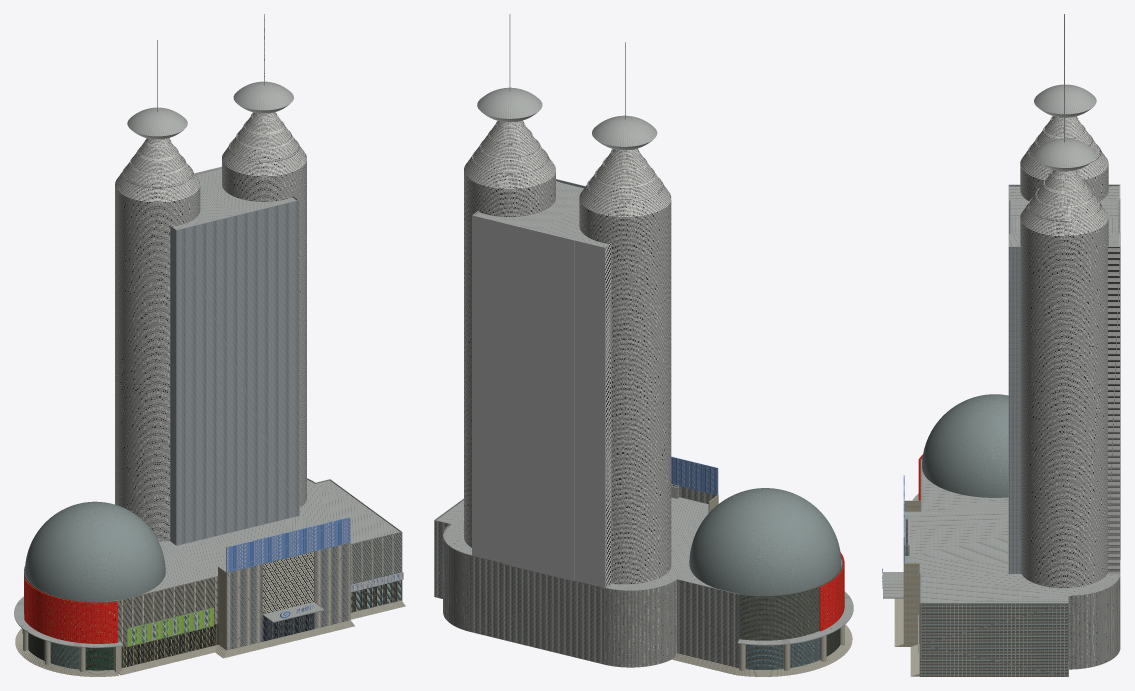
Rendered from L1-chinanet-1228.gltf.
3 renders of one model, left to right at view 1: azimuth 30°, elevation 25°; view 2: azimuth 150°, elevation 25°; view 3: azimuth 270°, elevation 25°, orthographic. The views are drawn at different scales.
Visible parts, largest first — view 1: 银灰色, 银灰色2, 钢，45-345, 模型屋顶, 银灰色3, CN显示屏, 电信蓝, 浅肉粉5, 银灰色5, 浅肉粉(1), 浅肉粉, 浅肉粉7 (+11 smaller); view 2: 银灰色4, 银灰色2, 浅肉粉, 钢，45-345, 银灰色3, 模型屋顶, 浅肉粉10, 银灰色5, 浅肉粉11, 浅肉粉(1), 电信蓝, CN显示屏 (+1 smaller); view 3: 银灰色3, 模型屋顶, 浅肉粉4, 钢，45-345, 银灰色, 浅肉粉, 银灰色5, 银灰色2, 浅肉粉7(1), 浅肉粉(1), 模型屋顶(1), 银灰色4.
Boxes of the visible parts, bbox=[...] form: 银灰色: bbox=[170, 196, 299, 545]; 银灰色2: bbox=[115, 138, 200, 541]; 钢，45-345: bbox=[25, 501, 165, 601]; 模型屋顶: bbox=[14, 168, 399, 647]; 银灰色3: bbox=[222, 112, 306, 507]; CN显示屏: bbox=[24, 579, 117, 643]; 电信蓝: bbox=[226, 517, 350, 618]; 浅肉粉5: bbox=[116, 576, 218, 646]; 银灰色5: bbox=[127, 14, 293, 139]; 浅肉粉(1): bbox=[15, 600, 405, 676]; 浅肉粉: bbox=[226, 478, 330, 650]; 浅肉粉7: bbox=[314, 542, 350, 628]; 银灰色4: bbox=[472, 215, 604, 588]; 银灰色2: bbox=[579, 148, 671, 587]; 浅肉粉: bbox=[434, 486, 739, 668]; 钢，45-345: bbox=[689, 488, 841, 595]; 银灰色3: bbox=[464, 120, 555, 547]; 模型屋顶: bbox=[436, 181, 853, 645]; 浅肉粉10: bbox=[739, 555, 842, 640]; 银灰色5: bbox=[477, 14, 657, 150]; 浅肉粉11: bbox=[745, 638, 819, 669]; 浅肉粉(1): bbox=[672, 624, 852, 676]; 电信蓝: bbox=[671, 456, 718, 495]; CN显示屏: bbox=[819, 552, 844, 631]; 银灰色3: bbox=[1020, 170, 1120, 588]; 模型屋顶: bbox=[904, 186, 1119, 602]; 浅肉粉4: bbox=[919, 603, 1068, 676]; 钢，45-345: bbox=[922, 394, 1008, 497]; 银灰色: bbox=[1008, 184, 1021, 573]; 浅肉粉: bbox=[904, 518, 1120, 669]; 银灰色5: bbox=[1034, 14, 1096, 171]; 银灰色2: bbox=[1020, 116, 1119, 233]; 浅肉粉7(1): bbox=[903, 500, 921, 646]; 浅肉粉(1): bbox=[894, 598, 919, 676]; 模型屋顶(1): bbox=[883, 572, 903, 598]; 银灰色4: bbox=[1119, 185, 1120, 559].
Size of the model in its own units: 94.1 by 146 by 54.77.
23 materials, 22 textured.
